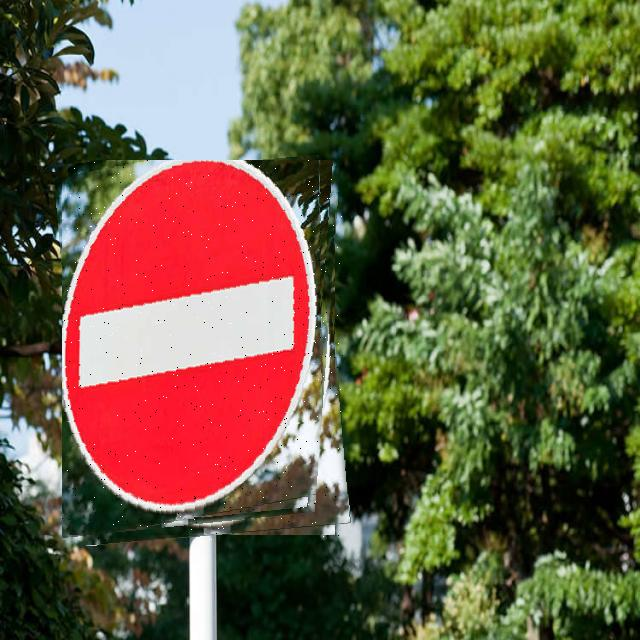no entry: (62, 160, 343, 541)
